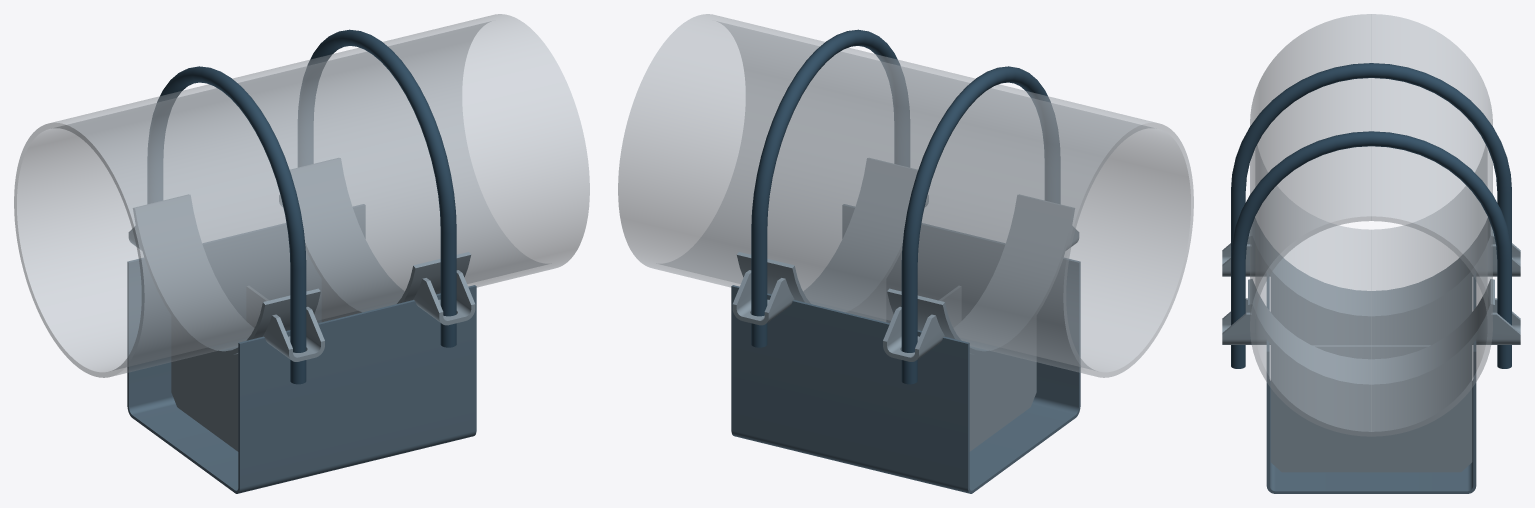
The model's file is TS-626.00.000-046-opora-dn325-H150-L340.glb.
3 renders of one model, left to right at view 1: azimuth 30°, elevation 25°; view 2: azimuth 150°, elevation 25°; view 3: azimuth 270°, elevation 25°, orthographic. The views are drawn at different scales.
Parts seen in each view (by area): view 1: truba, skoba_0, podushka_4, podushka_5, homut_1, homut_0, rebro4_1, ushko_9, ushko_7, rebro4_2; view 2: truba, skoba_0, podushka_4, podushka_5, homut_1, homut_0, rebro4_1, ushko_8, ushko_6, rebro4_2; view 3: truba, rebro4_2, homut_1, podushka_5, podushka_4, homut_0, rebro4_1, skoba_0, rebro5_3, ushko_8, ushko_9, ushko_6 (+1 smaller).
Boxes of the visible parts, x1=… form: truba: x1=14, y1=14, x2=589, y2=377; skoba_0: x1=127, y1=204, x2=476, y2=493; podushka_4: x1=133, y1=194, x2=320, y2=355; podushka_5: x1=290, y1=158, x2=470, y2=313; homut_1: x1=298, y1=29, x2=456, y2=347; homut_0: x1=147, y1=66, x2=306, y2=384; rebro4_1: x1=171, y1=317, x2=238, y2=451; ushko_9: x1=413, y1=270, x2=475, y2=325; ushko_7: x1=263, y1=306, x2=324, y2=361; rebro4_2: x1=321, y1=280, x2=355, y2=321; truba: x1=618, y1=14, x2=1193, y2=377; skoba_0: x1=731, y1=204, x2=1080, y2=493; podushka_4: x1=887, y1=194, x2=1074, y2=355; podushka_5: x1=737, y1=158, x2=917, y2=313; homut_1: x1=751, y1=29, x2=909, y2=347; homut_0: x1=901, y1=66, x2=1060, y2=384; rebro4_1: x1=969, y1=317, x2=1036, y2=451; ushko_8: x1=732, y1=270, x2=794, y2=325; ushko_6: x1=883, y1=306, x2=944, y2=361; rebro4_2: x1=852, y1=280, x2=886, y2=321; truba: x1=1250, y1=14, x2=1492, y2=436; rebro4_2: x1=1270, y1=345, x2=1472, y2=472; homut_1: x1=1231, y1=131, x2=1511, y2=368; podushka_5: x1=1248, y1=279, x2=1494, y2=388; podushka_4: x1=1248, y1=218, x2=1494, y2=320; homut_0: x1=1231, y1=63, x2=1511, y2=254; rebro4_1: x1=1270, y1=277, x2=1472, y2=345; skoba_0: x1=1266, y1=272, x2=1476, y2=493; rebro5_3: x1=1312, y1=345, x2=1430, y2=359; ushko_8: x1=1472, y1=298, x2=1520, y2=344; ushko_9: x1=1222, y1=298, x2=1270, y2=344; ushko_6: x1=1472, y1=238, x2=1520, y2=276.
Size of the model in its own units: 640 by 505 by 399.
